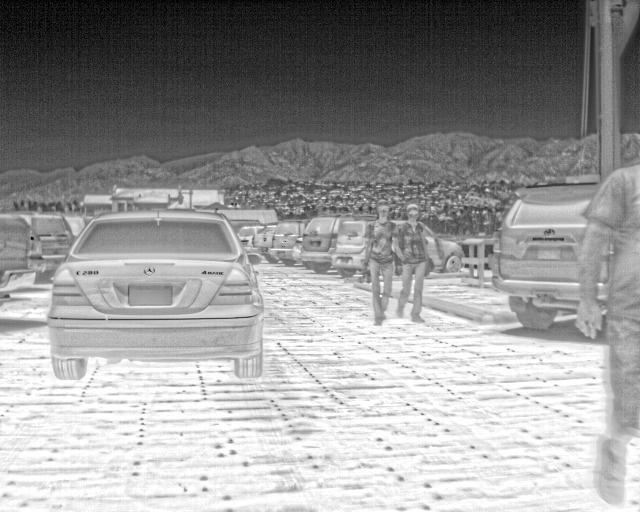bicycle: (46, 210, 267, 378), (491, 180, 602, 331), (20, 211, 75, 285), (1, 213, 46, 300), (334, 216, 378, 280), (304, 213, 343, 274), (421, 225, 466, 273), (273, 218, 311, 265), (257, 221, 281, 263), (238, 224, 265, 259)
empty: (572, 162, 638, 505), (392, 203, 430, 321), (365, 202, 401, 325)
